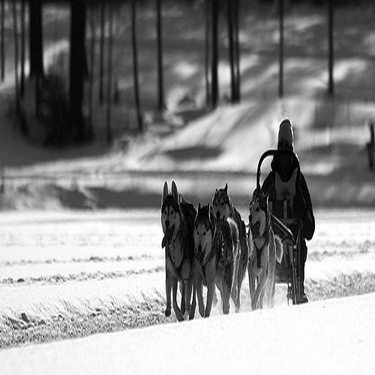dog: (188, 203, 240, 319), (157, 178, 198, 323), (235, 198, 282, 310), (211, 179, 245, 294), (243, 186, 278, 296)
